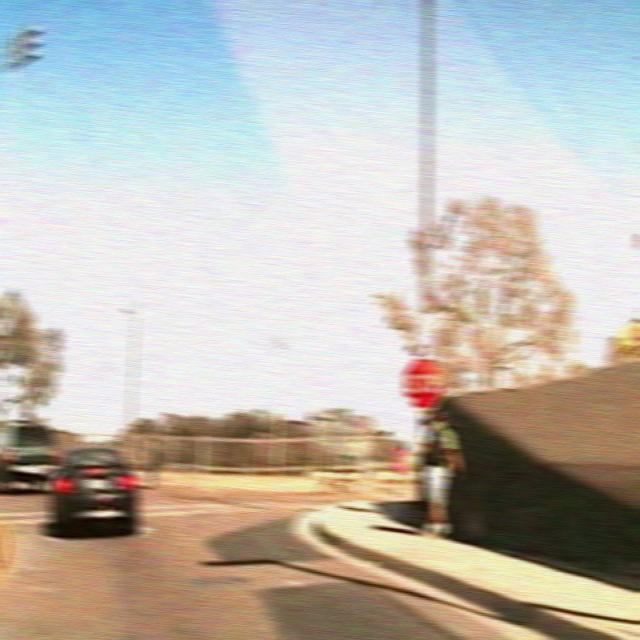stop_sign: (402, 356, 447, 409)
